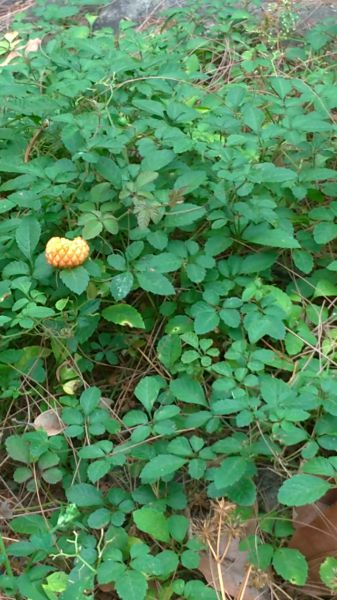eggs: (41, 228, 94, 272)
